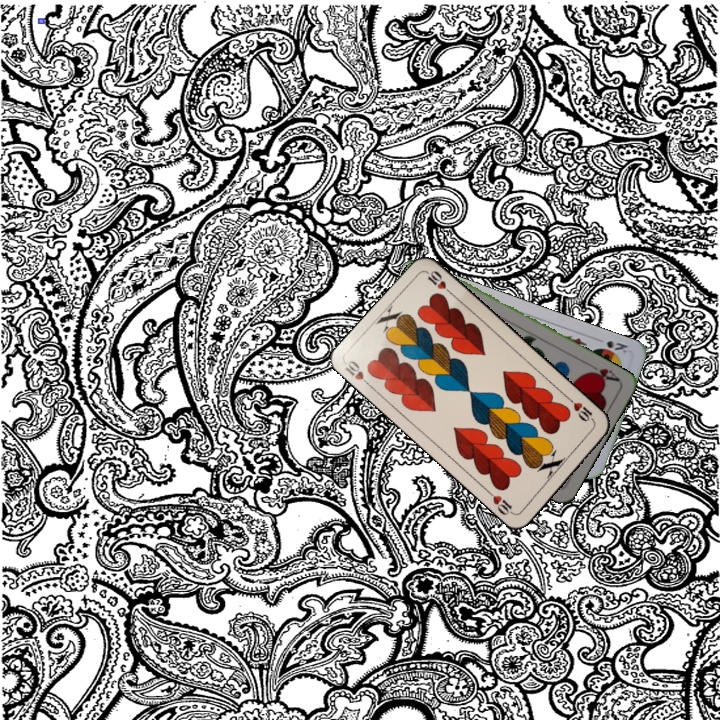H10: (341, 356, 375, 391), (564, 394, 598, 426)
HA: (584, 360, 623, 385)
SK: (602, 336, 631, 356)
